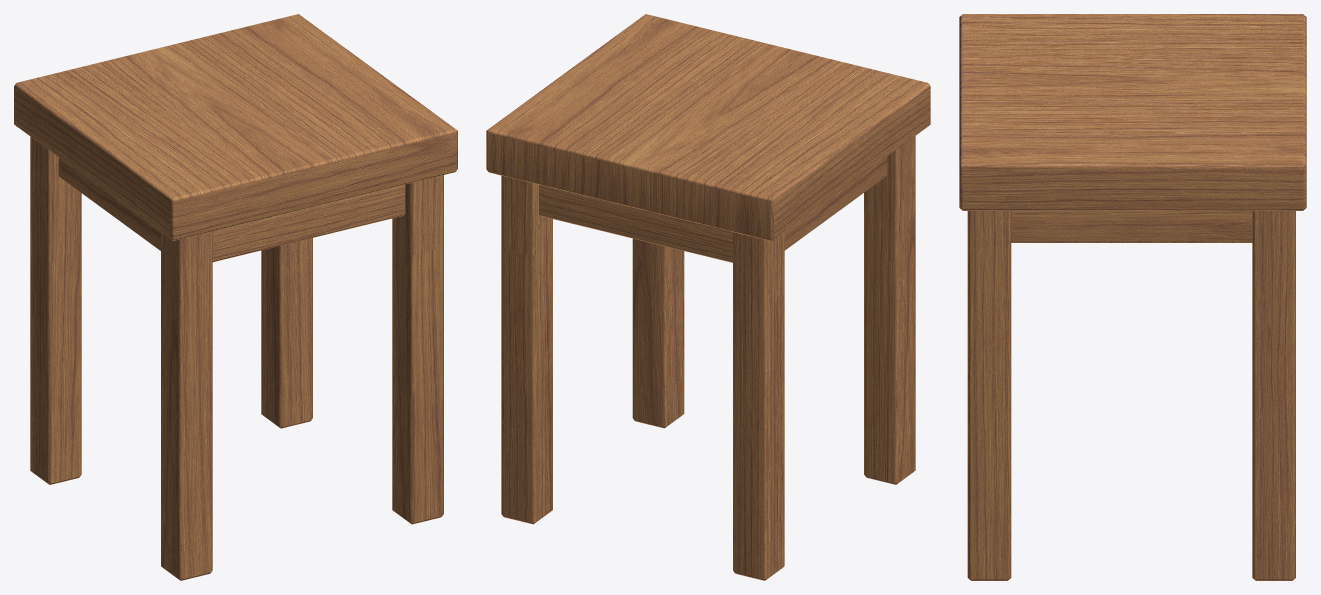
File: SM_stool_02.fbx
3 views of the same model, side by side, from view 1: azimuth 30°, elevation 25°; view 2: azimuth 150°, elevation 25°; view 3: azimuth 270°, elevation 25° (orthographic). The views are drawn at different scales.
Visible parts, largest first — view 1: table03; view 2: table03; view 3: table03.
Part boxes in pixels (x1,y1,x2,y2): table03: (14, 14, 457, 580); table03: (486, 14, 930, 580); table03: (959, 14, 1306, 580).
Bounding box in the file's own units: 16.54 × 21.41 × 15.93.
1 material, 1 textured.
